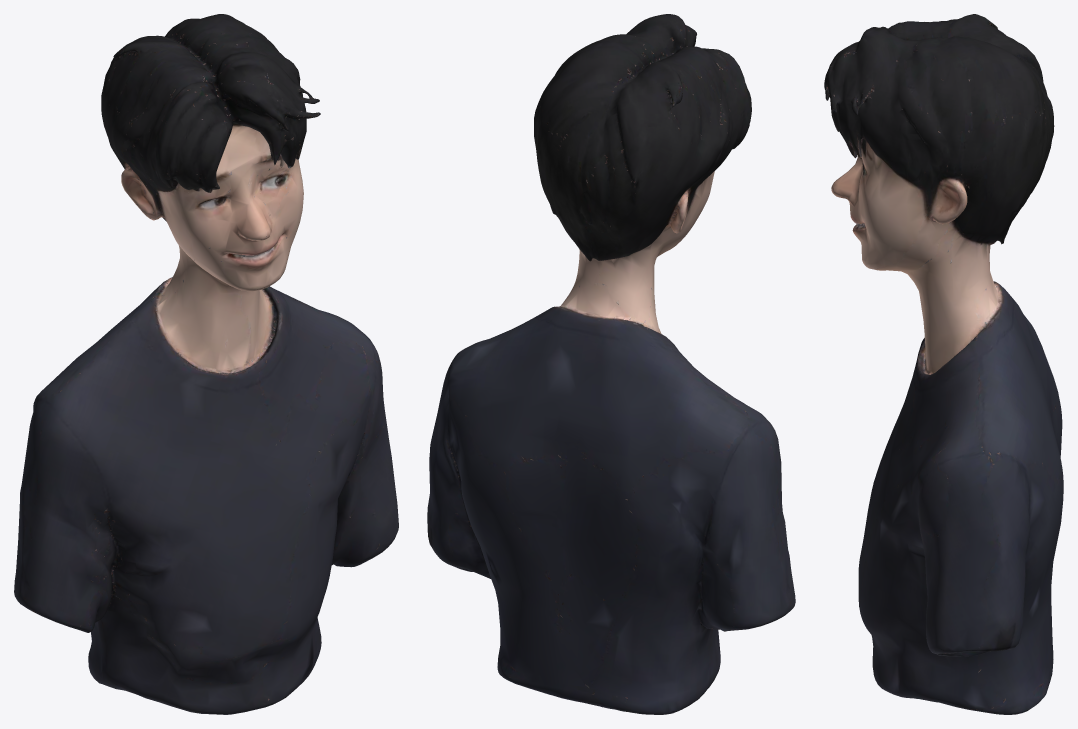
Rendered from zilin-avatar-v2.glb.
The picture shows the model from 3 angles, left to right: view 1: azimuth 30°, elevation 25°; view 2: azimuth 150°, elevation 25°; view 3: azimuth 270°, elevation 25°; orthographic projection. The views are drawn at different scales.
Bounding box in the file's own units: 1.17 × 2 × 0.6784.
1 material, 1 textured.
